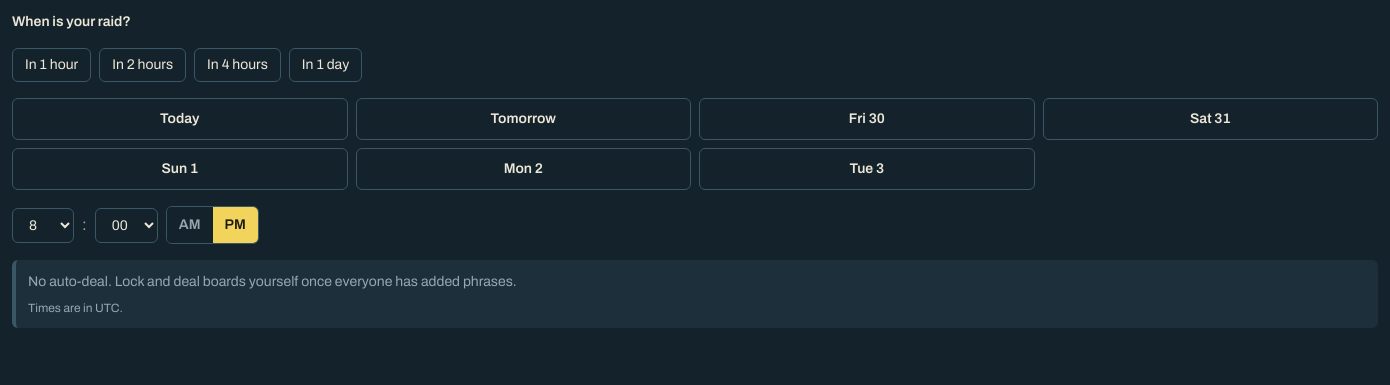
DateTimePicker › moves the time forward when Today is clicked after the default time has passed
What coordinates should you click on to do the following:
click the button "Today"
I would click on:
 (180, 119)
Its box is [12,98,348,140].
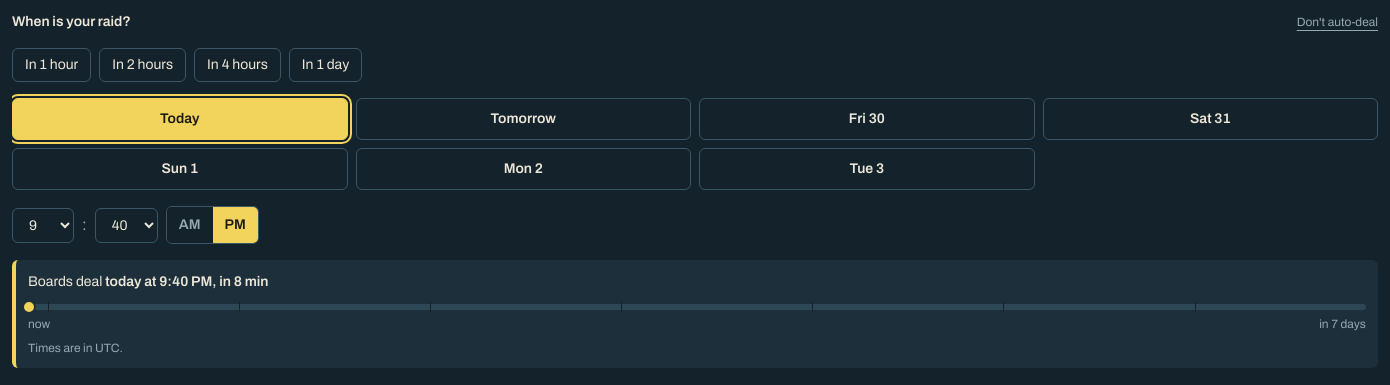
expect the text "today at 9:40 PM, in 8 min" is shown: met, box [105,274,268,289]
